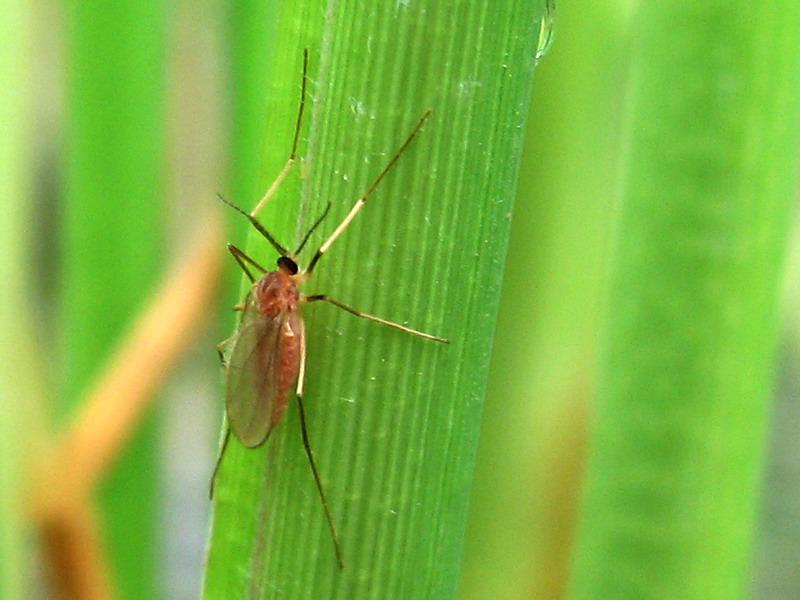Gall_midge: (182, 237, 382, 470)
